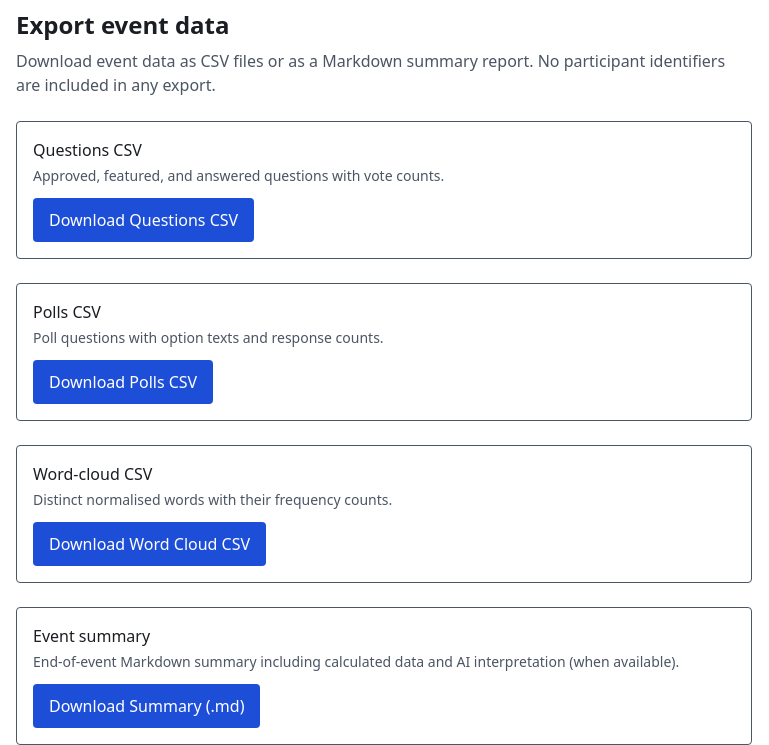
Test: ExportPanel — Download Questions CSV (Req 9.1, 9.6, 9.7) › shows a success confirmation after download
Click the button "Download Questions CSV" at (144, 220), box [33,198,254,242]
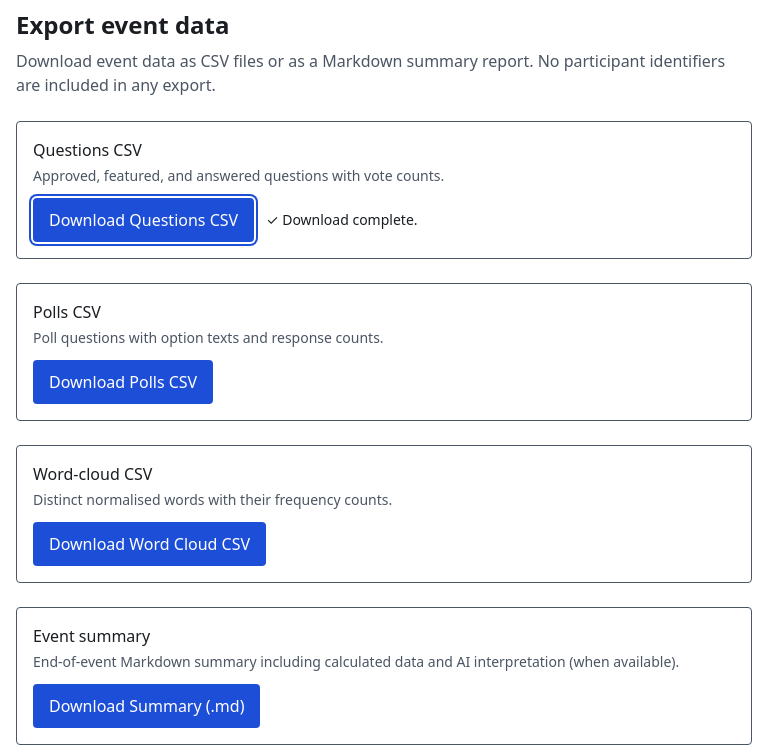
Check: the text "✓ Download complete." is shown, box [266,210,418,230]
